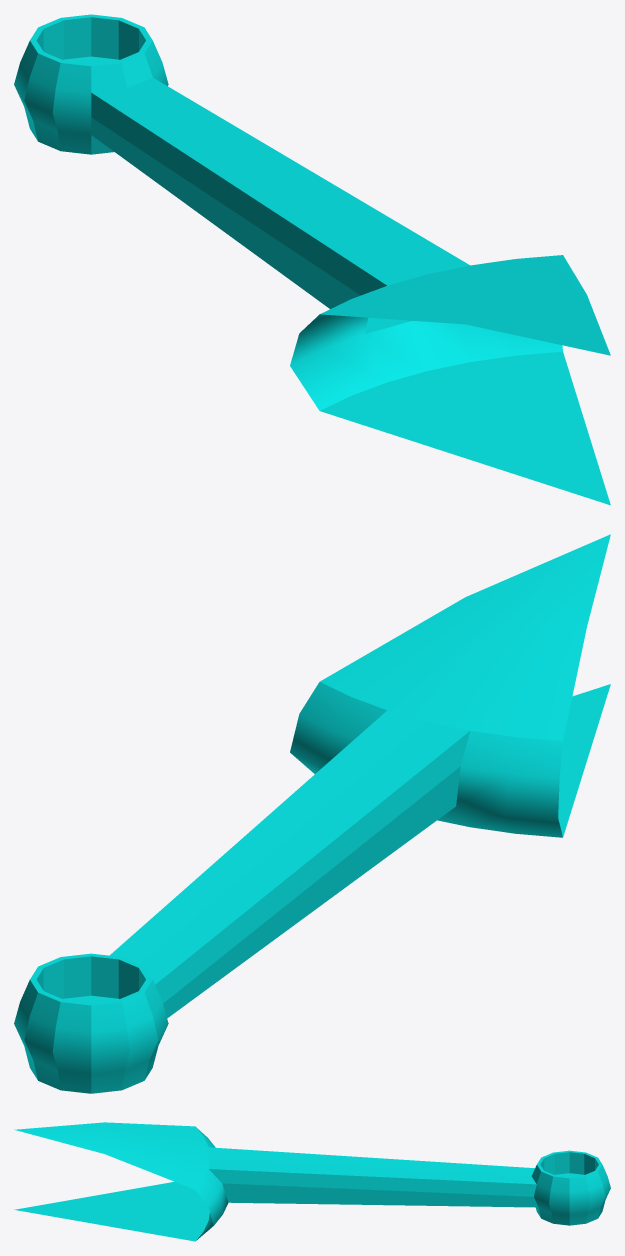
Rendered from body8_14.fbx.
3 renders of one model, top to bottom at view 1: azimuth 30°, elevation 25°; view 2: azimuth 150°, elevation 25°; view 3: azimuth 270°, elevation 25°, orthographic. The views are drawn at different scales.
Visible parts, largest first — view 1: pCylinder252; view 2: pCylinder252; view 3: pCylinder252.
Boxes of the visible parts, x1,y1,x2,y2 form: pCylinder252: (14, 14, 610, 505); pCylinder252: (14, 534, 610, 1093); pCylinder252: (14, 1122, 610, 1241).
Size of the model in its own units: 3.42 by 1.87 by 12.33.
